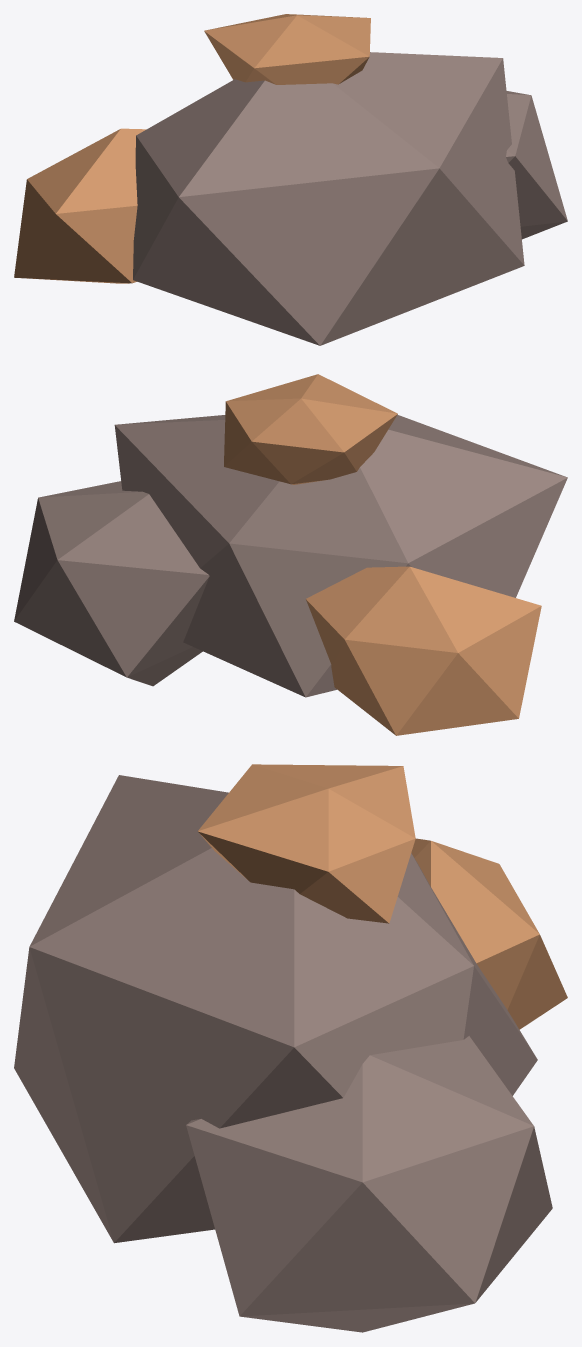
The model's file is ore_iron.fbx.
3 views of the same model, one above another, from view 1: azimuth 30°, elevation 25°; view 2: azimuth 150°, elevation 25°; view 3: azimuth 270°, elevation 25° (orthographic). The views are drawn at different scales.
Visible parts, largest first — view 1: ore_iron; view 2: ore_iron; view 3: ore_iron.
Boxes of the visible parts, <box> form: ore_iron: <box>14,14,567,345</box>; ore_iron: <box>14,374,567,735</box>; ore_iron: <box>14,764,567,1332</box>.
Bounding box in the file's own units: 1.22 × 0.7241 × 0.8104.
